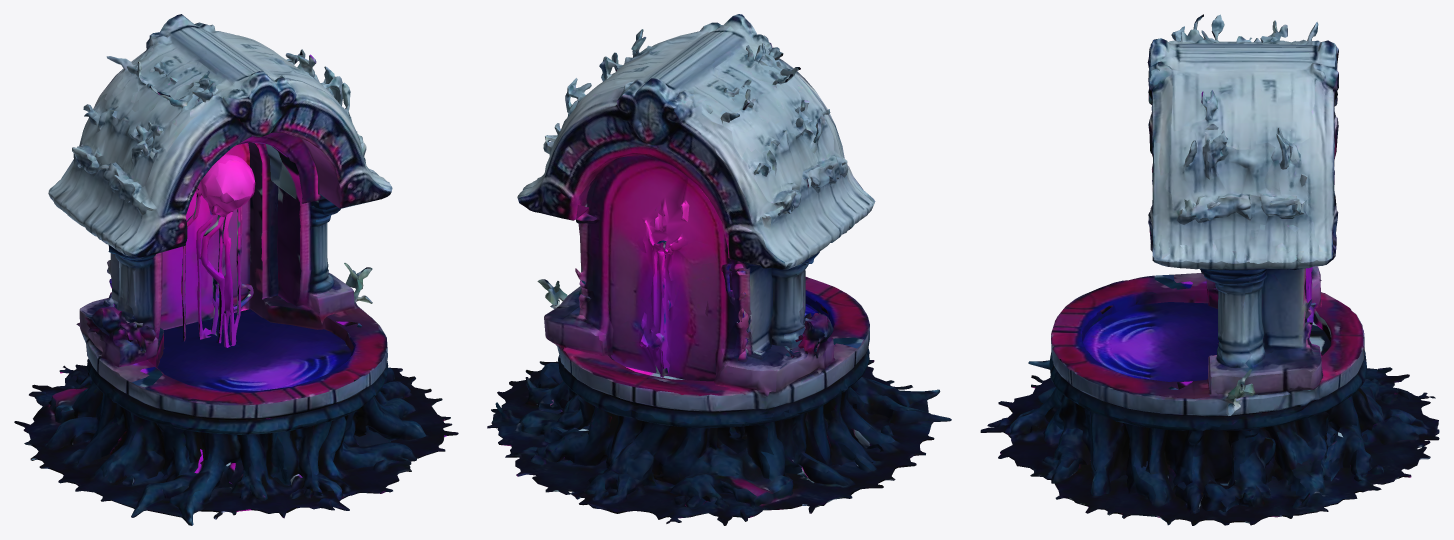
File: growth-planter-b-generated-2026-05-17T18-07-41-545Z.medium.glb
3 views of the same model, side by side, from view 1: azimuth 30°, elevation 25°; view 2: azimuth 150°, elevation 25°; view 3: azimuth 270°, elevation 25° (orthographic). The views are drawn at different scales.
Parts seen in each view (by area): view 1: temp_mesh.ply; view 2: temp_mesh.ply; view 3: temp_mesh.ply.
Part boxes in pixels (left/top/right/bottom): temp_mesh.ply: left=14, top=14, right=458, bottom=525; temp_mesh.ply: left=487, top=14, right=951, bottom=525; temp_mesh.ply: left=980, top=14, right=1439, bottom=525.
Size of the model in its own units: 1.93 by 1.86 by 1.97.
Materials: 1 (1 with a texture image).
